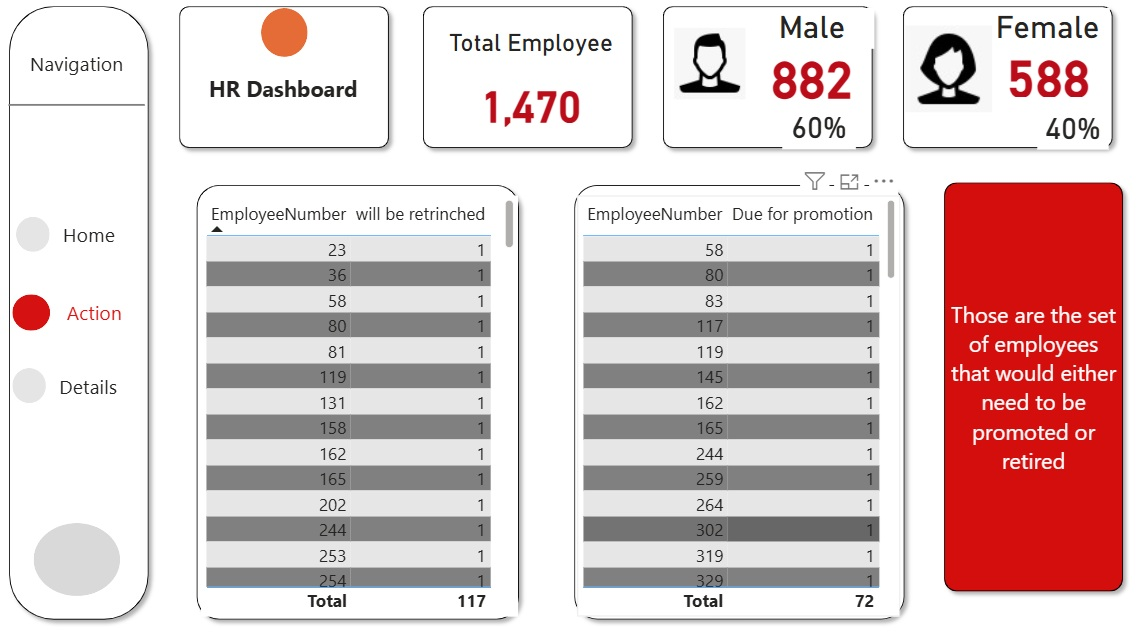

Layout of this report page (visuals, bound fields, positions):
{"tool":"powerbi","page":{"name":"Action","canvas":[1280,720],"ordinal":1},"visuals":[{"type":"shape","box":[220,15.9,248.1,173.6],"z":0},{"type":"shape","title":"Na","box":[32.7,16.4,171,691.5],"z":1000},{"type":"shape","box":[239.4,212.6,371.7,495.2],"z":2000},{"type":"shape","box":[487.7,17.1,248.1,173.6],"z":3000},{"type":"shape","box":[750.6,17.1,248.1,173.6],"z":4000},{"type":"shape","box":[1014.6,15.9,248.1,173.6],"z":5000},{"type":"shape","box":[652.8,212.6,380.7,495.2],"z":6000},{"type":"shape","box":[1058.7,209.7,214.1,466.9],"z":7000},{"type":"card","title":"Total Employee","fields":{"Values":["All Measure.Total Emp"]},"box":[507.3,48.9,213.9,133.2],"z":8000},{"type":"card","title":"Male","fields":{"Values":["All Measure.Male"]},"box":[854.5,26.9,136.9,105.1],"z":9000},{"type":"card","title":"Male","fields":{"Values":["All Measure.%Male"]},"box":[891.1,128.4,80.7,53.8],"z":10000},{"type":"image","box":[766.5,35.4,88,106.3],"z":11000},{"type":"card","title":"Female","fields":{"Values":["All Measure.Female"]},"box":[1113.6,26.9,135.7,101.5],"z":12000},{"type":"image","box":[1020.7,26.9,105.1,133.2],"z":13000},{"type":"shape","box":[317.8,26.9,51.3,53.8],"z":14000},{"type":"textbox","box":[240.8,94.1,205.4,44],"z":15000},{"type":"card","fields":{"Values":["All Measure.%Female"]},"box":[1171.1,132,78.2,51.3],"z":16000},{"type":"tableEx","fields":{"Values":["in.EmployeeNumber","All Measure.will be retrinched"]},"box":[252.8,233.5,348,462.5],"z":17000},{"type":"tableEx","fields":{"Values":["in.EmployeeNumber","All Measure.Due for promotion"]},"box":[666.2,233.5,353.9,462.5],"z":18000},{"type":"textbox","box":[96.7,257.3,95.2,53.5],"z":19000},{"type":"actionButton","box":[49.1,257.3,37.2,38.7],"z":20000},{"type":"actionButton","box":[44.6,342,41.6,40.1],"z":21000},{"type":"textbox","box":[99.6,342,80.3,40.1],"z":22000},{"type":"actionButton","box":[44.6,422.3,37.2,38.7],"z":23000},{"type":"textbox","box":[92.2,422.3,95.2,43.1],"z":24000},{"type":"actionButton","box":[68.4,593.3,95.2,80.3],"z":25000},{"type":"textbox","box":[45.3,68.6,141.3,48],"z":26000},{"type":"shape","box":[41.2,50.8,149.6,166],"z":27000}]}

Visuals, with their boxes in screenshot pixels (x1, y1, x2, y2), scaled from the page's 1280x720 canvas onto the 1148x638 screenshot:
shape: box=[197, 14, 420, 168]
"Na" shape: box=[29, 15, 183, 627]
shape: box=[215, 188, 548, 627]
shape: box=[437, 15, 660, 169]
shape: box=[673, 15, 896, 169]
shape: box=[910, 14, 1132, 168]
shape: box=[585, 188, 927, 627]
shape: box=[950, 186, 1142, 600]
"Total Employee" card: box=[455, 43, 647, 161]
"Male" card: box=[766, 24, 889, 117]
"Male" card: box=[799, 114, 872, 161]
image: box=[687, 31, 766, 126]
"Female" card: box=[999, 24, 1120, 114]
image: box=[915, 24, 1010, 142]
shape: box=[285, 24, 331, 72]
textbox: box=[216, 83, 400, 122]
card - All Measure.%Female: box=[1050, 117, 1120, 162]
tableEx - in.EmployeeNumber x All Measure.will be retrinched: box=[227, 207, 539, 617]
tableEx - in.EmployeeNumber x All Measure.Due for promotion: box=[597, 207, 915, 617]
textbox: box=[87, 228, 172, 275]
actionButton: box=[44, 228, 77, 262]
actionButton: box=[40, 303, 77, 339]
textbox: box=[89, 303, 161, 339]
actionButton: box=[40, 374, 73, 408]
textbox: box=[83, 374, 168, 412]
actionButton: box=[61, 526, 147, 597]
textbox: box=[41, 61, 167, 103]
shape: box=[37, 45, 171, 192]
